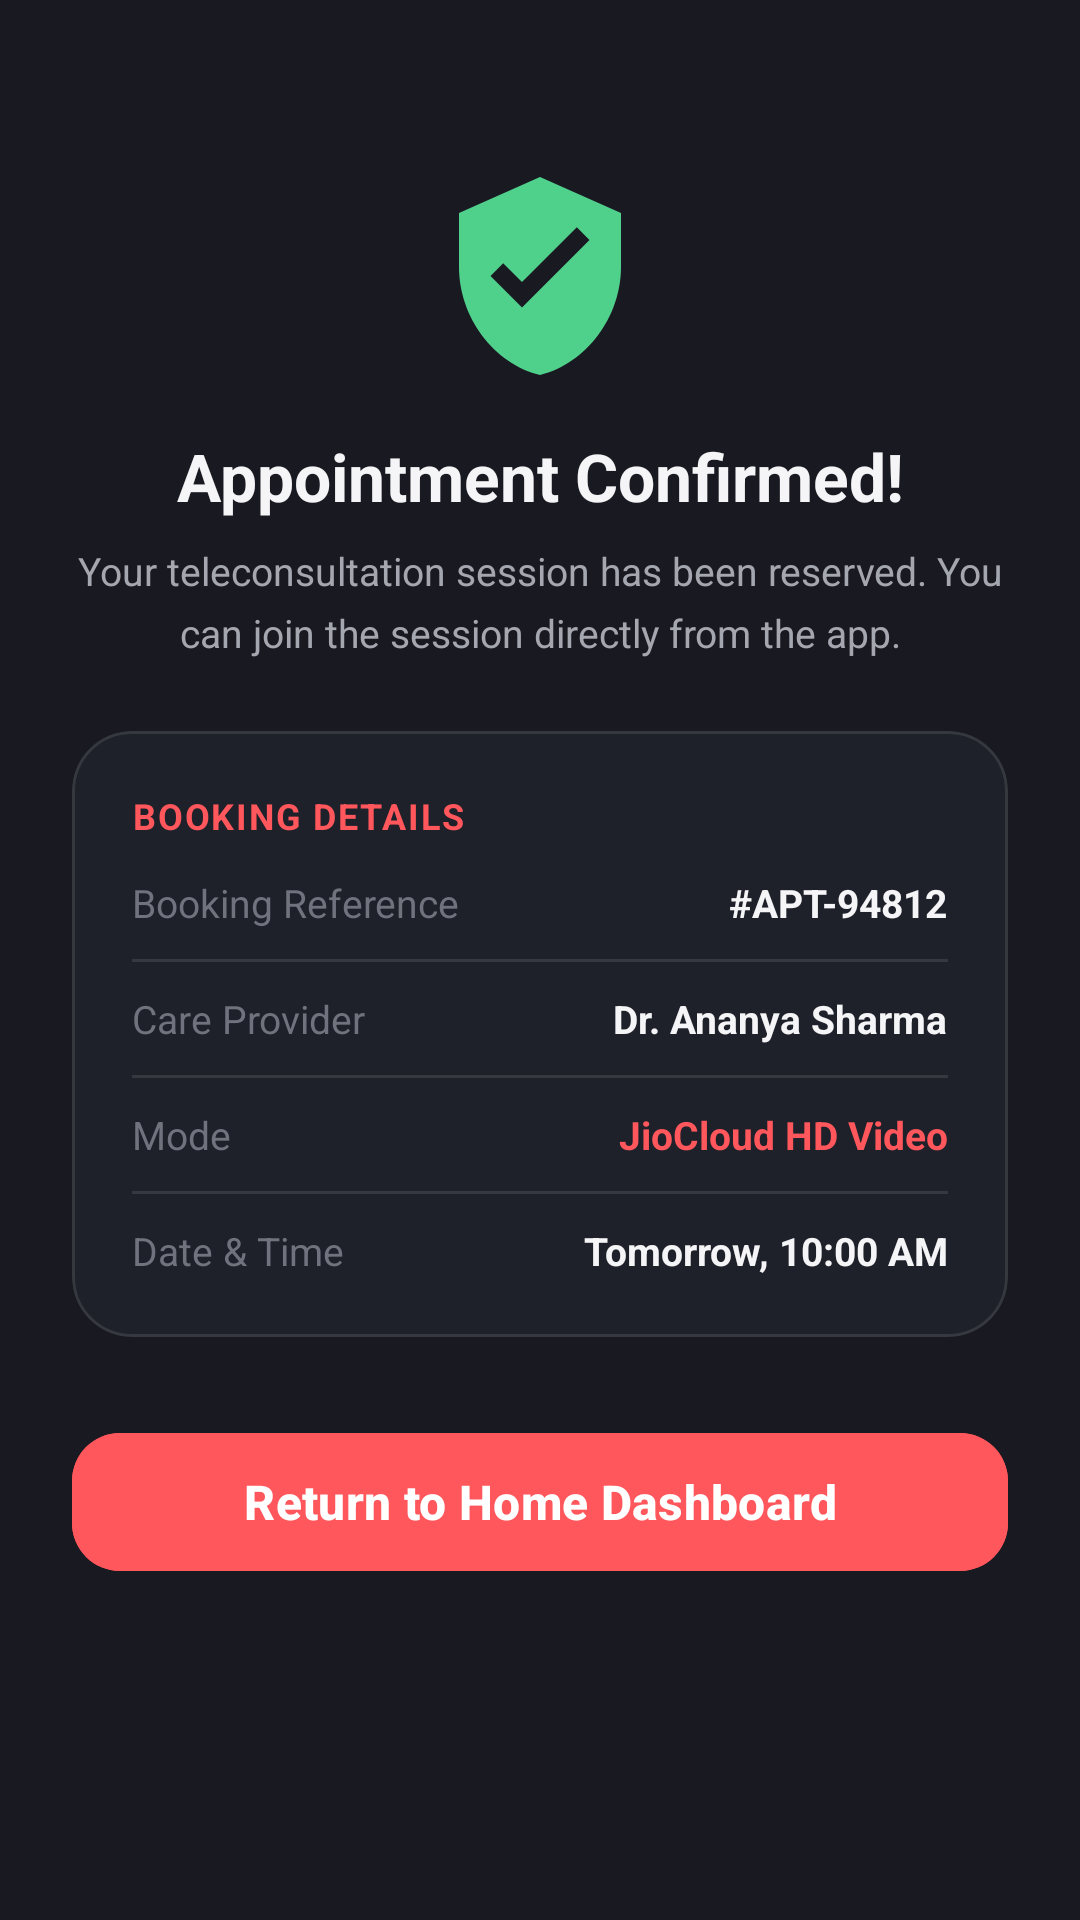

Screen size 1080 × 1920. Icon name, then its box in pixels as (x1, y1, x2, y2):
shield check: (459, 177, 621, 375)
